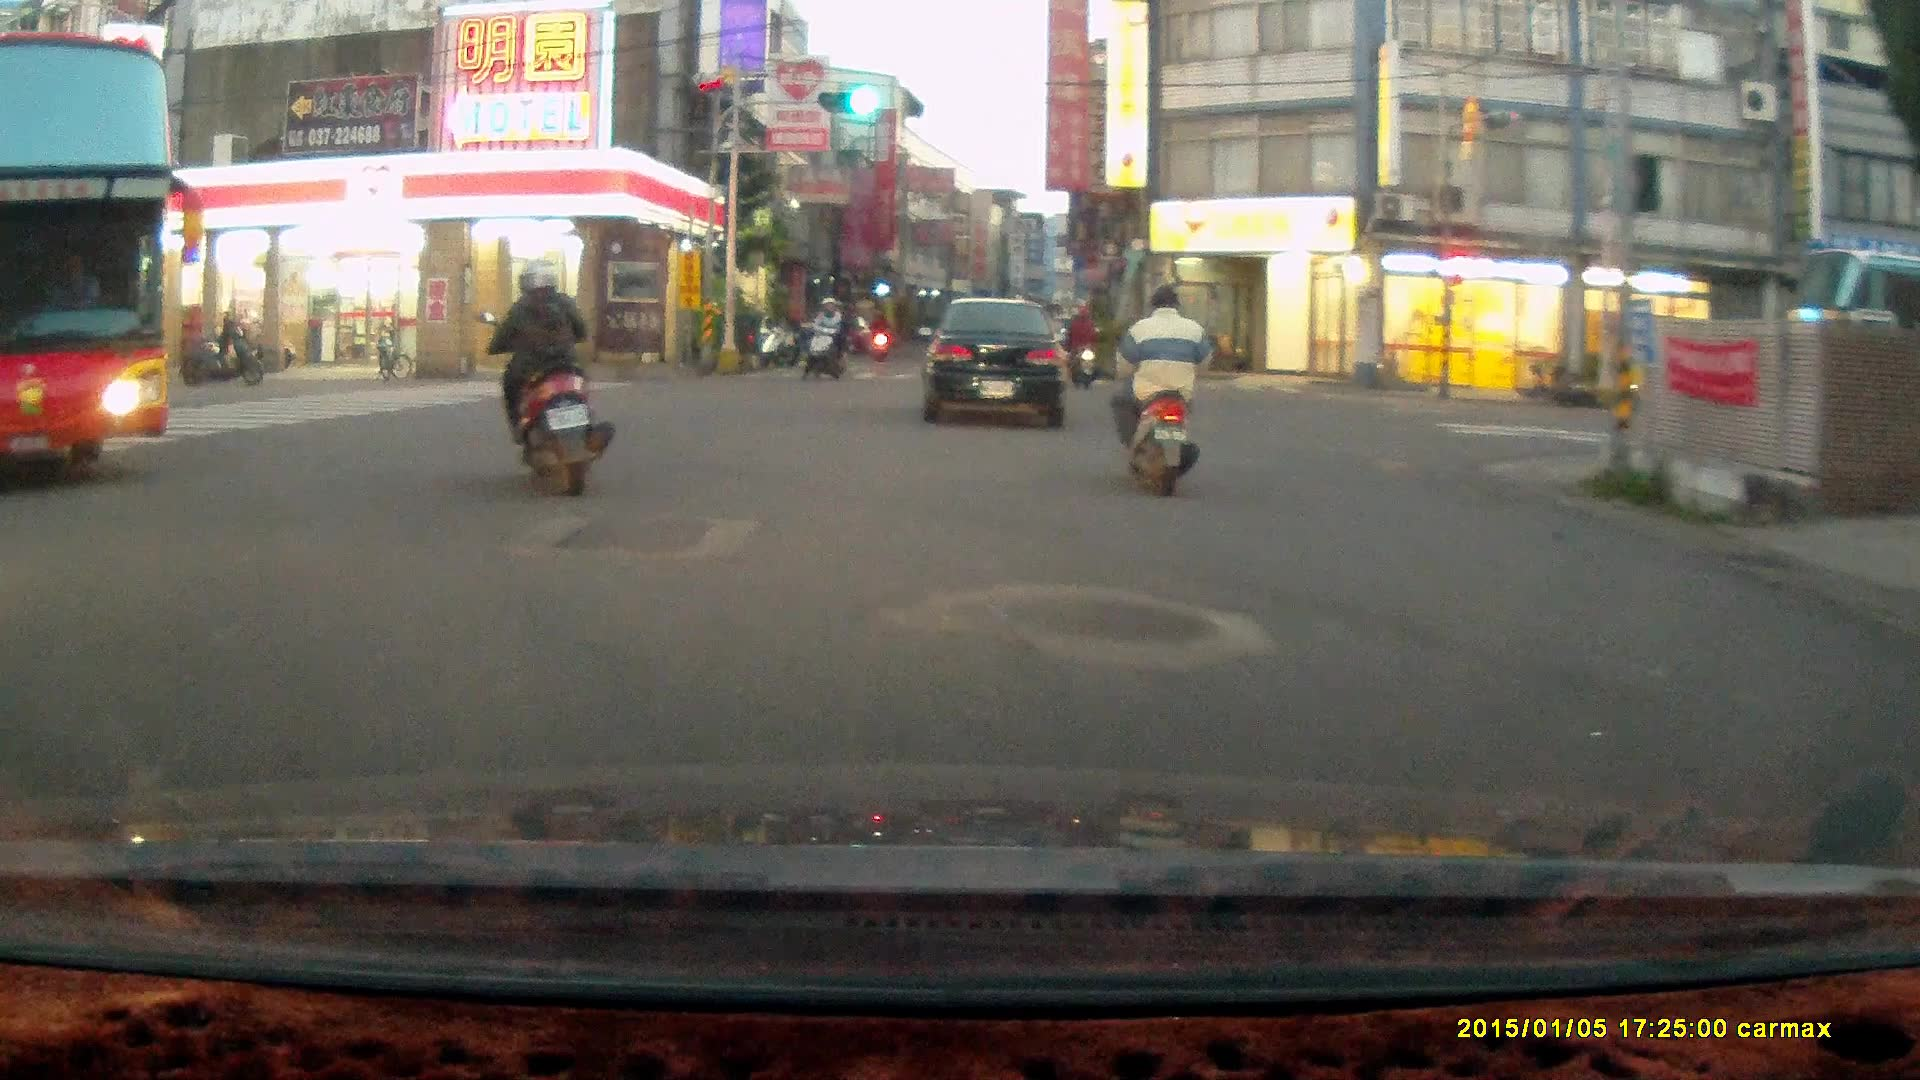rider: (475, 254, 613, 494), (1109, 284, 1212, 497), (802, 293, 854, 380), (1061, 299, 1100, 389)
vehicle: (1, 26, 176, 489), (924, 297, 1070, 431)
